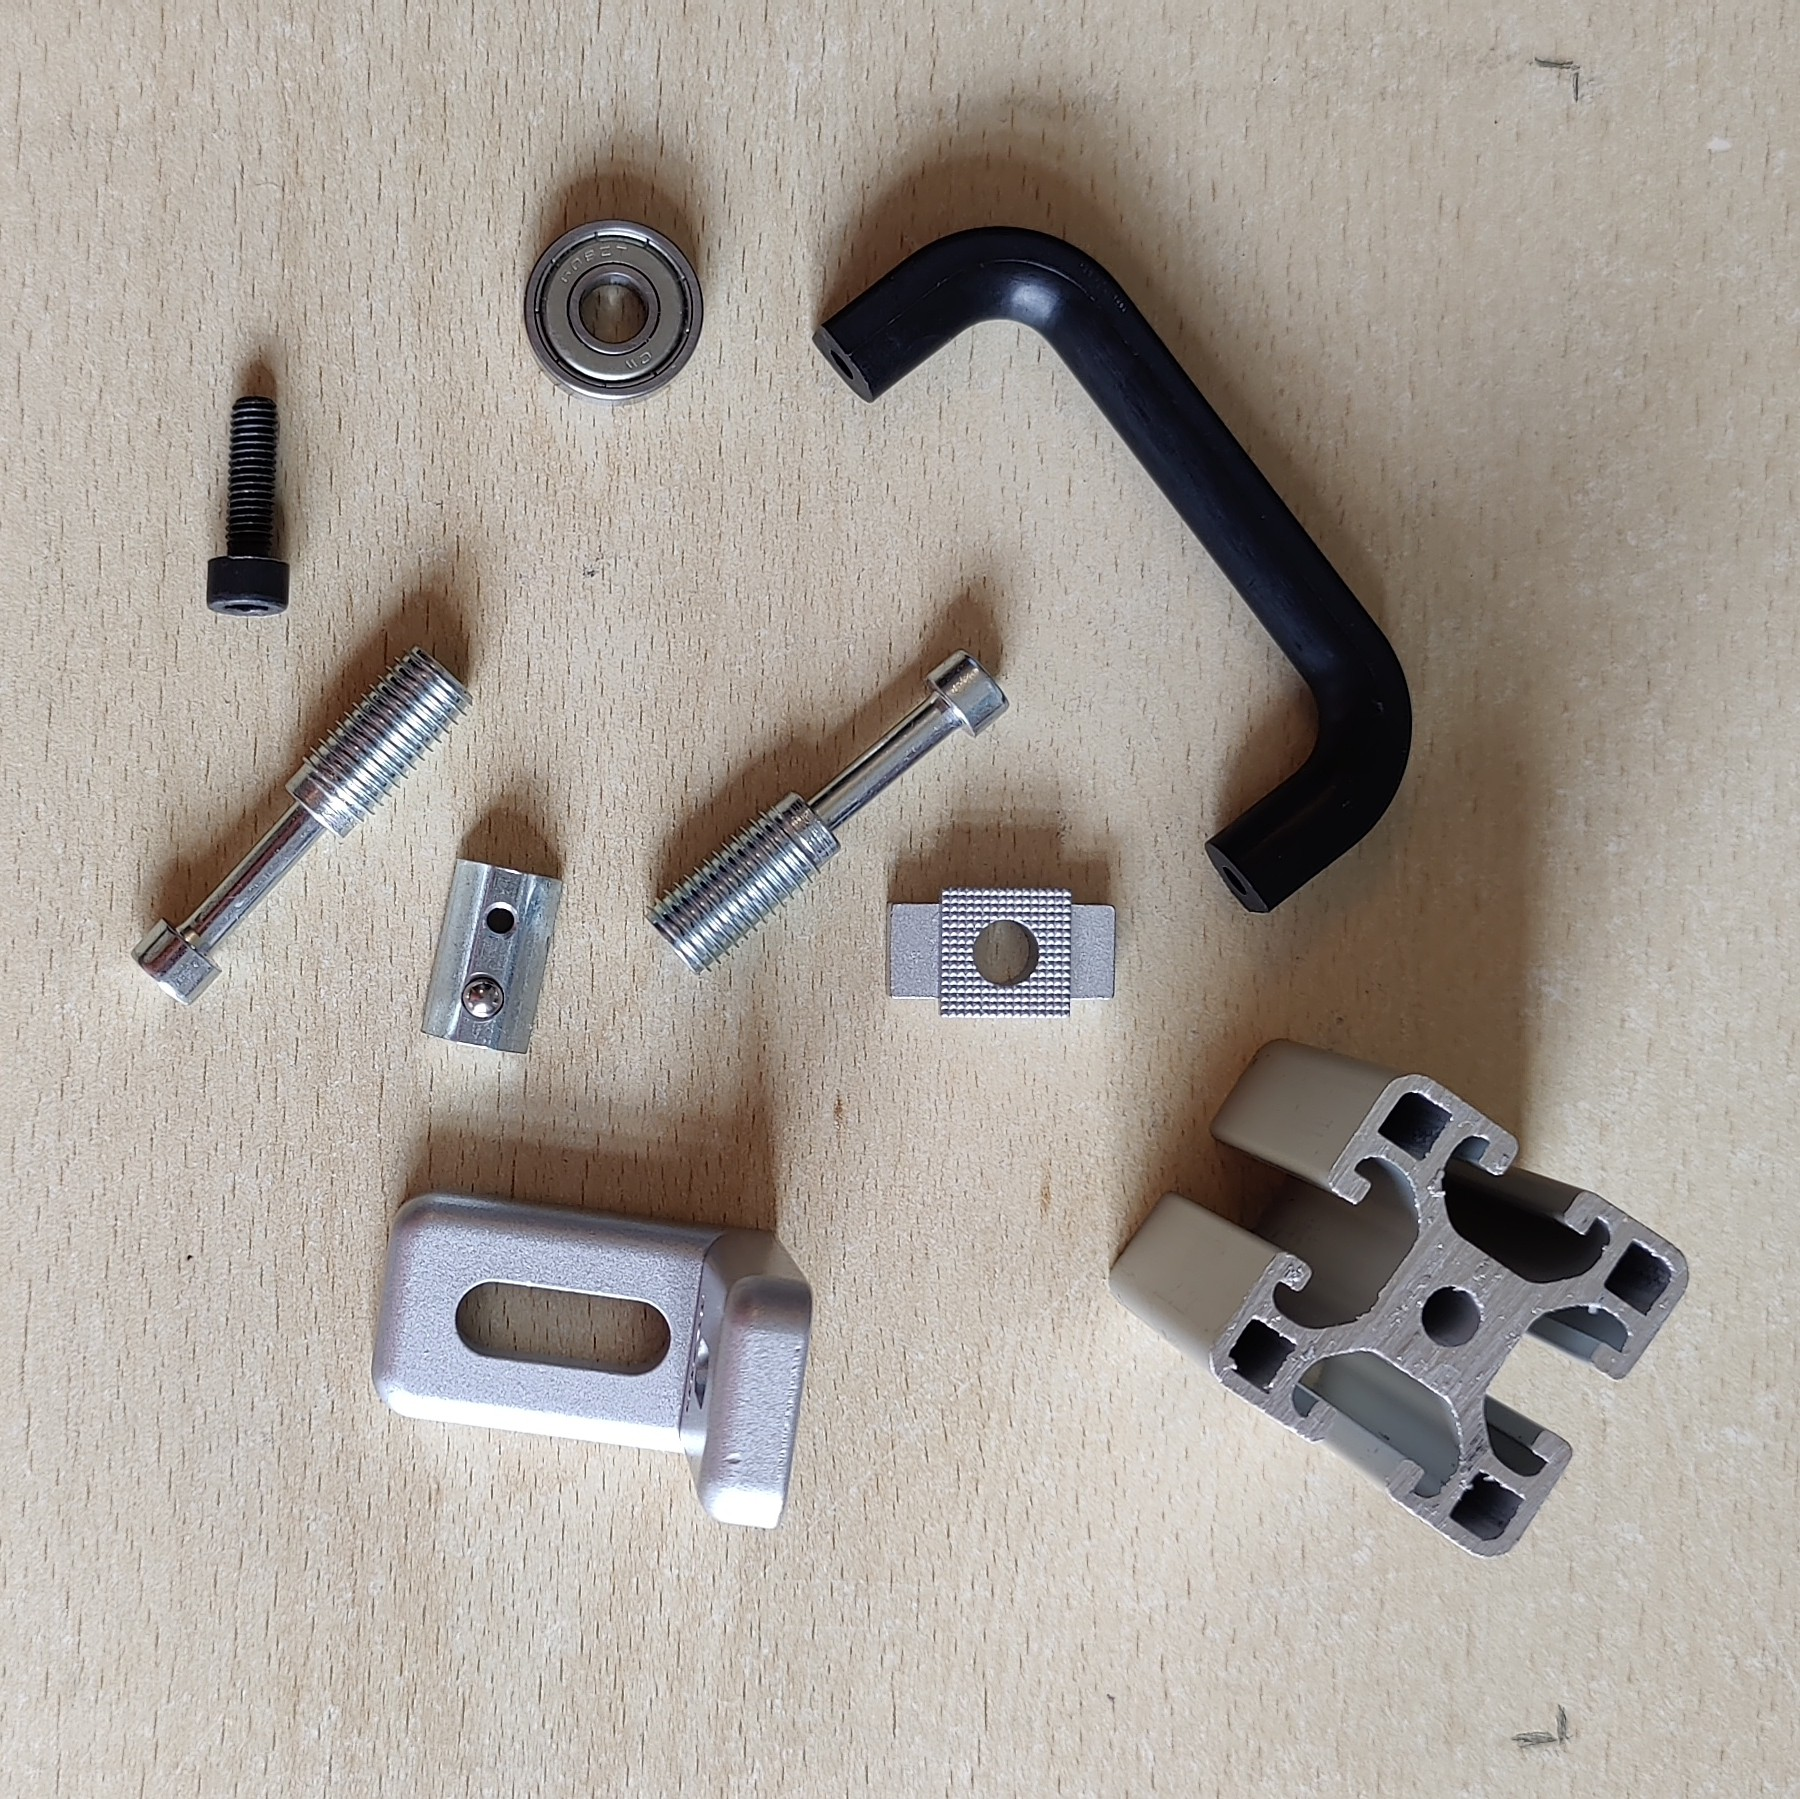Aluminium Extension: (1103, 1033, 1693, 1563)
Ball Bearing: (520, 213, 705, 407)
Multiwinkel: (371, 1188, 815, 1534)
Pull Handle: (809, 221, 1416, 914)
Shoulder Socket Head Cap Screw: (128, 642, 478, 1012), (642, 644, 1013, 980)
Socket Head Cap Screw: (204, 390, 296, 621)
T Nut Square: (883, 885, 1120, 1023)
T Spring Nut: (417, 853, 565, 1056)
